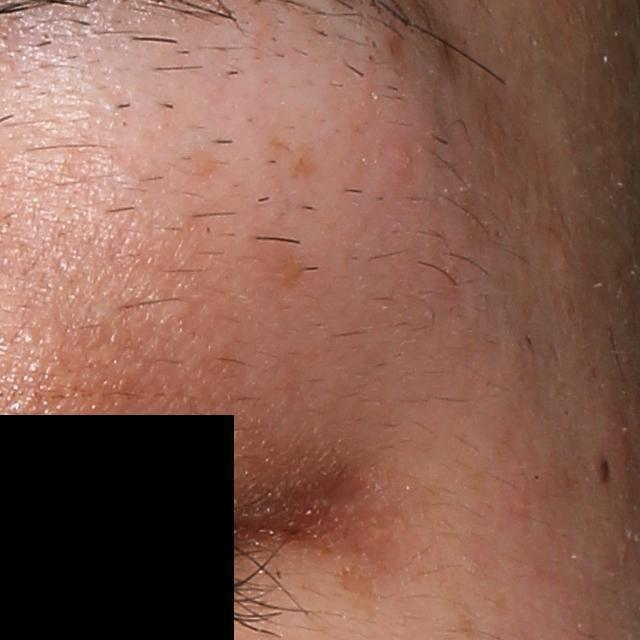melasma: (330, 565, 385, 605)
nevus: (596, 452, 613, 486)
